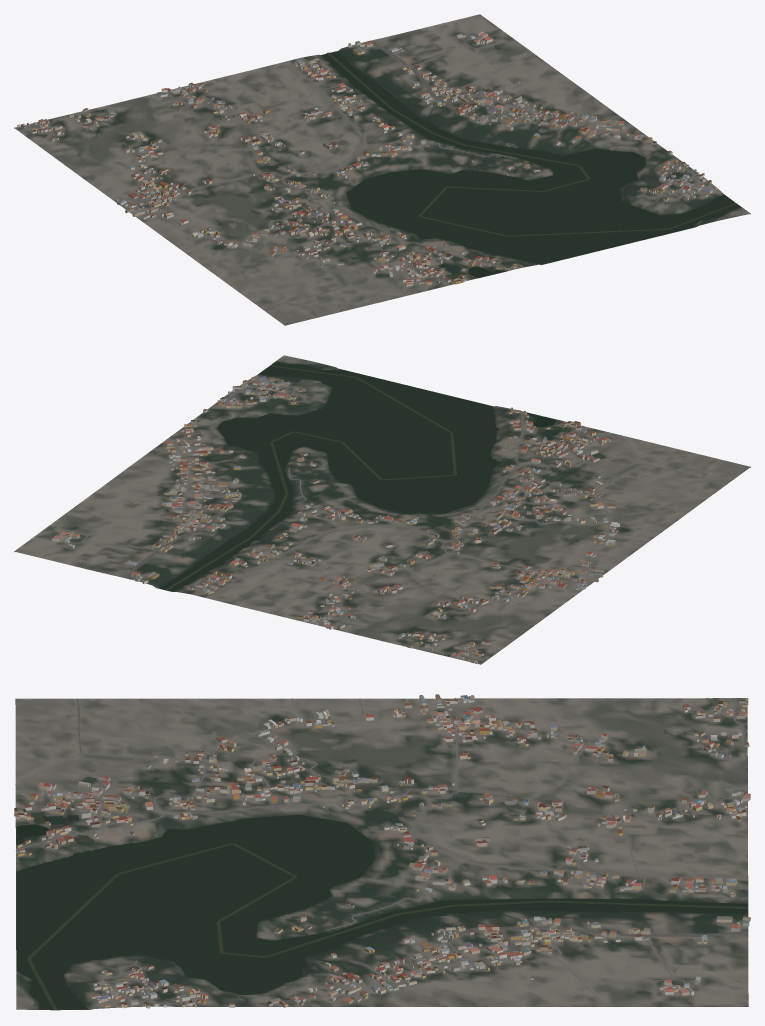
3 views of the same model, one above another, from view 1: azimuth 30°, elevation 25°; view 2: azimuth 150°, elevation 25°; view 3: azimuth 270°, elevation 25° (orthographic). The views are drawn at different scales.
Visible parts, largest first — view 1: ground, water, buildings, roads; view 2: ground, water, buildings, roads; view 3: ground, water, buildings, roads.
Boxes of the visible parts, x1=… form: ground: x1=14, y1=14, x2=750, y2=325; water: x1=321, y1=51, x2=741, y2=278; buildings: x1=17, y1=31, x2=717, y2=286; roads: x1=19, y1=37, x2=707, y2=308; ground: x1=14, y1=355, x2=750, y2=664; water: x1=159, y1=361, x2=605, y2=591; buildings: x1=52, y1=376, x2=619, y2=663; roads: x1=57, y1=380, x2=727, y2=661; ground: x1=15, y1=698, x2=748, y2=1010; water: x1=16, y1=777, x2=748, y2=1010; buildings: x1=14, y1=694, x2=750, y2=1008; roads: x1=15, y1=698, x2=748, y2=1007.
Size of the model in its own units: 1414 by 20.57 by 1411.
